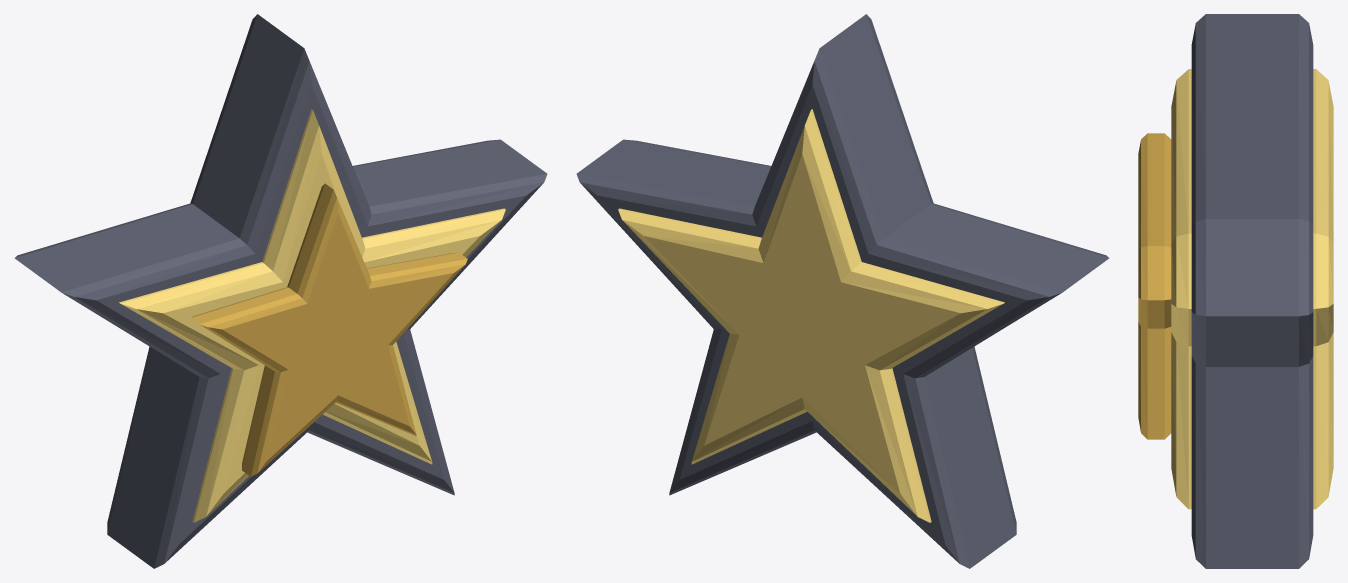
File: game-ui-icon-library-star-legendary-6fa938fe__19015.glb
3 renders of one model, left to right at view 1: azimuth 30°, elevation 25°; view 2: azimuth 150°, elevation 25°; view 3: azimuth 270°, elevation 25°, orthographic.
Parts seen in each view (by area): view 1: star-legendary; view 2: star-legendary; view 3: star-legendary.
Part boxes in pixels (x1,y1,x2,y2): star-legendary: (14, 14, 547, 568); star-legendary: (576, 14, 1109, 568); star-legendary: (1138, 14, 1333, 568).
Bounding box in the file's own units: 0.98 × 0.932 × 0.342.
